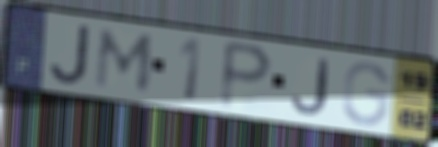1: (176, 34, 204, 105)
G: (340, 59, 392, 128)
J: (48, 22, 94, 87), (289, 56, 332, 118)
M: (91, 25, 159, 95)
P: (216, 37, 277, 113)
